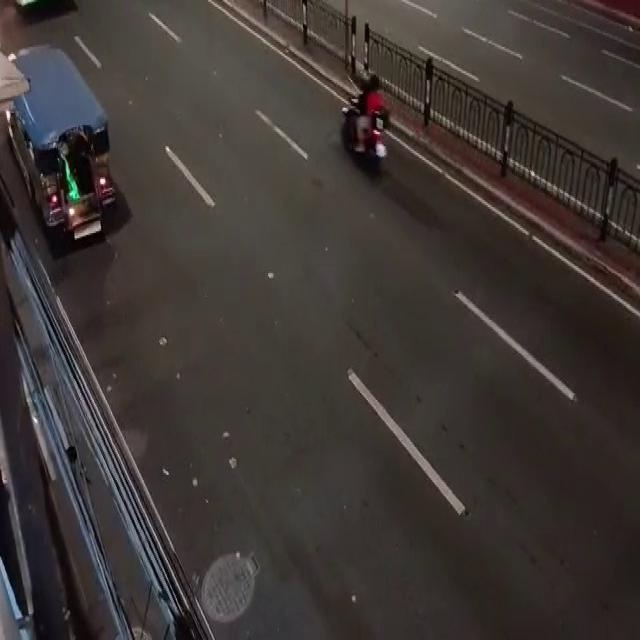motorcycle: (321, 64, 407, 190)
